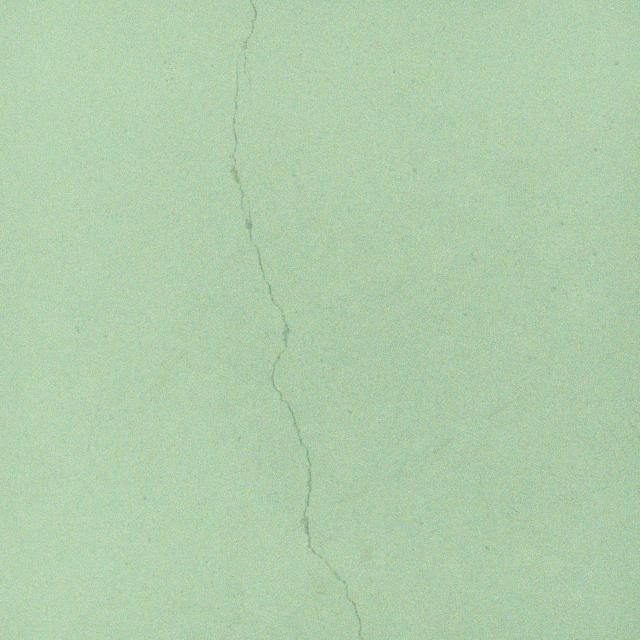crack: (228, 0, 366, 640)
